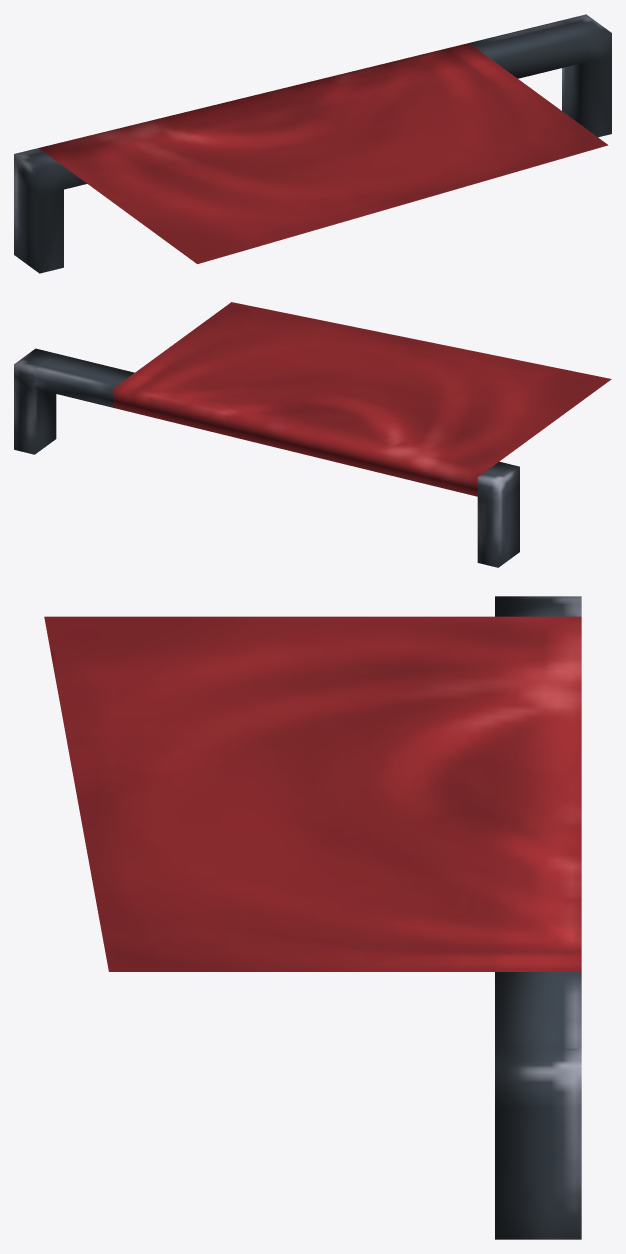
The model's file is props_towel.fbx.
The picture shows the model from 3 angles, top to bottom: view 1: azimuth 30°, elevation 25°; view 2: azimuth 150°, elevation 25°; view 3: azimuth 270°, elevation 25°; orthographic projection. The views are drawn at different scales.
Visible parts, largest first — view 1: towel; view 2: towel; view 3: towel.
Part boxes in pixels (x1,y1,x2,y2): towel: [14, 14, 611, 273]; towel: [14, 302, 611, 567]; towel: [44, 596, 581, 1239].
Bounding box in the file's own units: 0.8011 × 0.1349 × 0.3851.
1 material, 1 textured.
